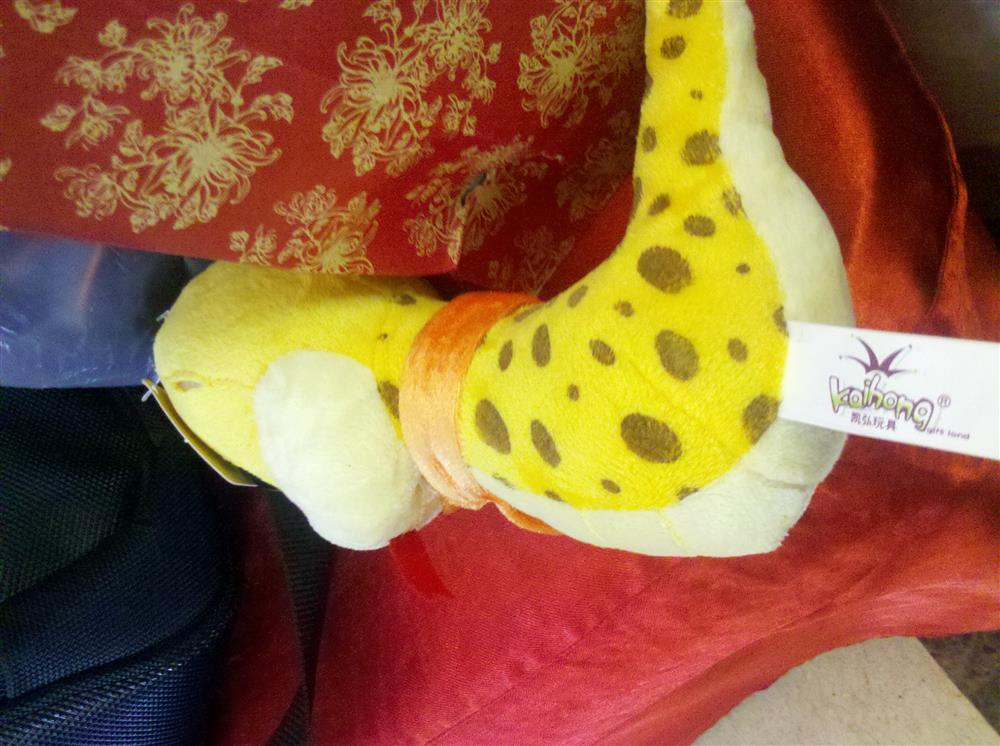toy_snake: (150, 4, 858, 564)
